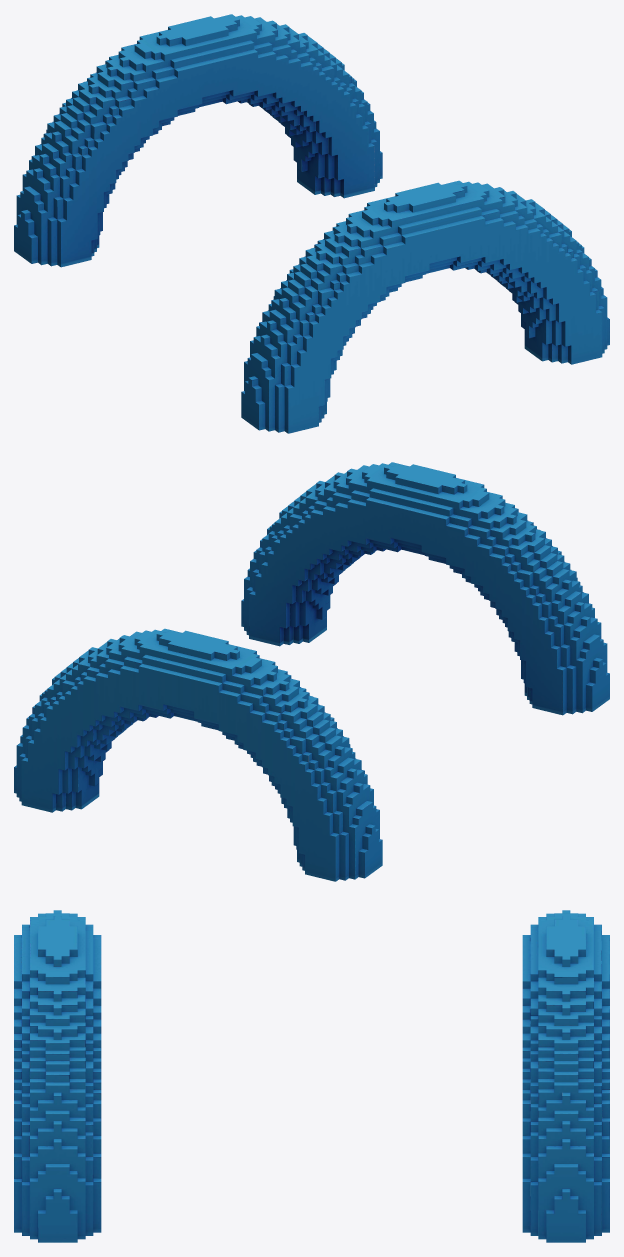
The model's file is HalfTorus.glb.
3 views of the same model, one above another, from view 1: azimuth 30°, elevation 25°; view 2: azimuth 150°, elevation 25°; view 3: azimuth 270°, elevation 25° (orthographic). The views are drawn at different scales.
Visible parts, largest first — view 1: Torus.003; view 2: Torus.003; view 3: Torus.003.
Boxes of the visible parts, left/top/right/bottom form: Torus.003: left=14, top=14, right=609, bottom=433; Torus.003: left=14, top=462, right=609, bottom=881; Torus.003: left=14, top=910, right=609, bottom=1242.
Size of the model in its own units: 2.47 by 1.26 by 3.25.
Materials: 1 (1 with a texture image).
